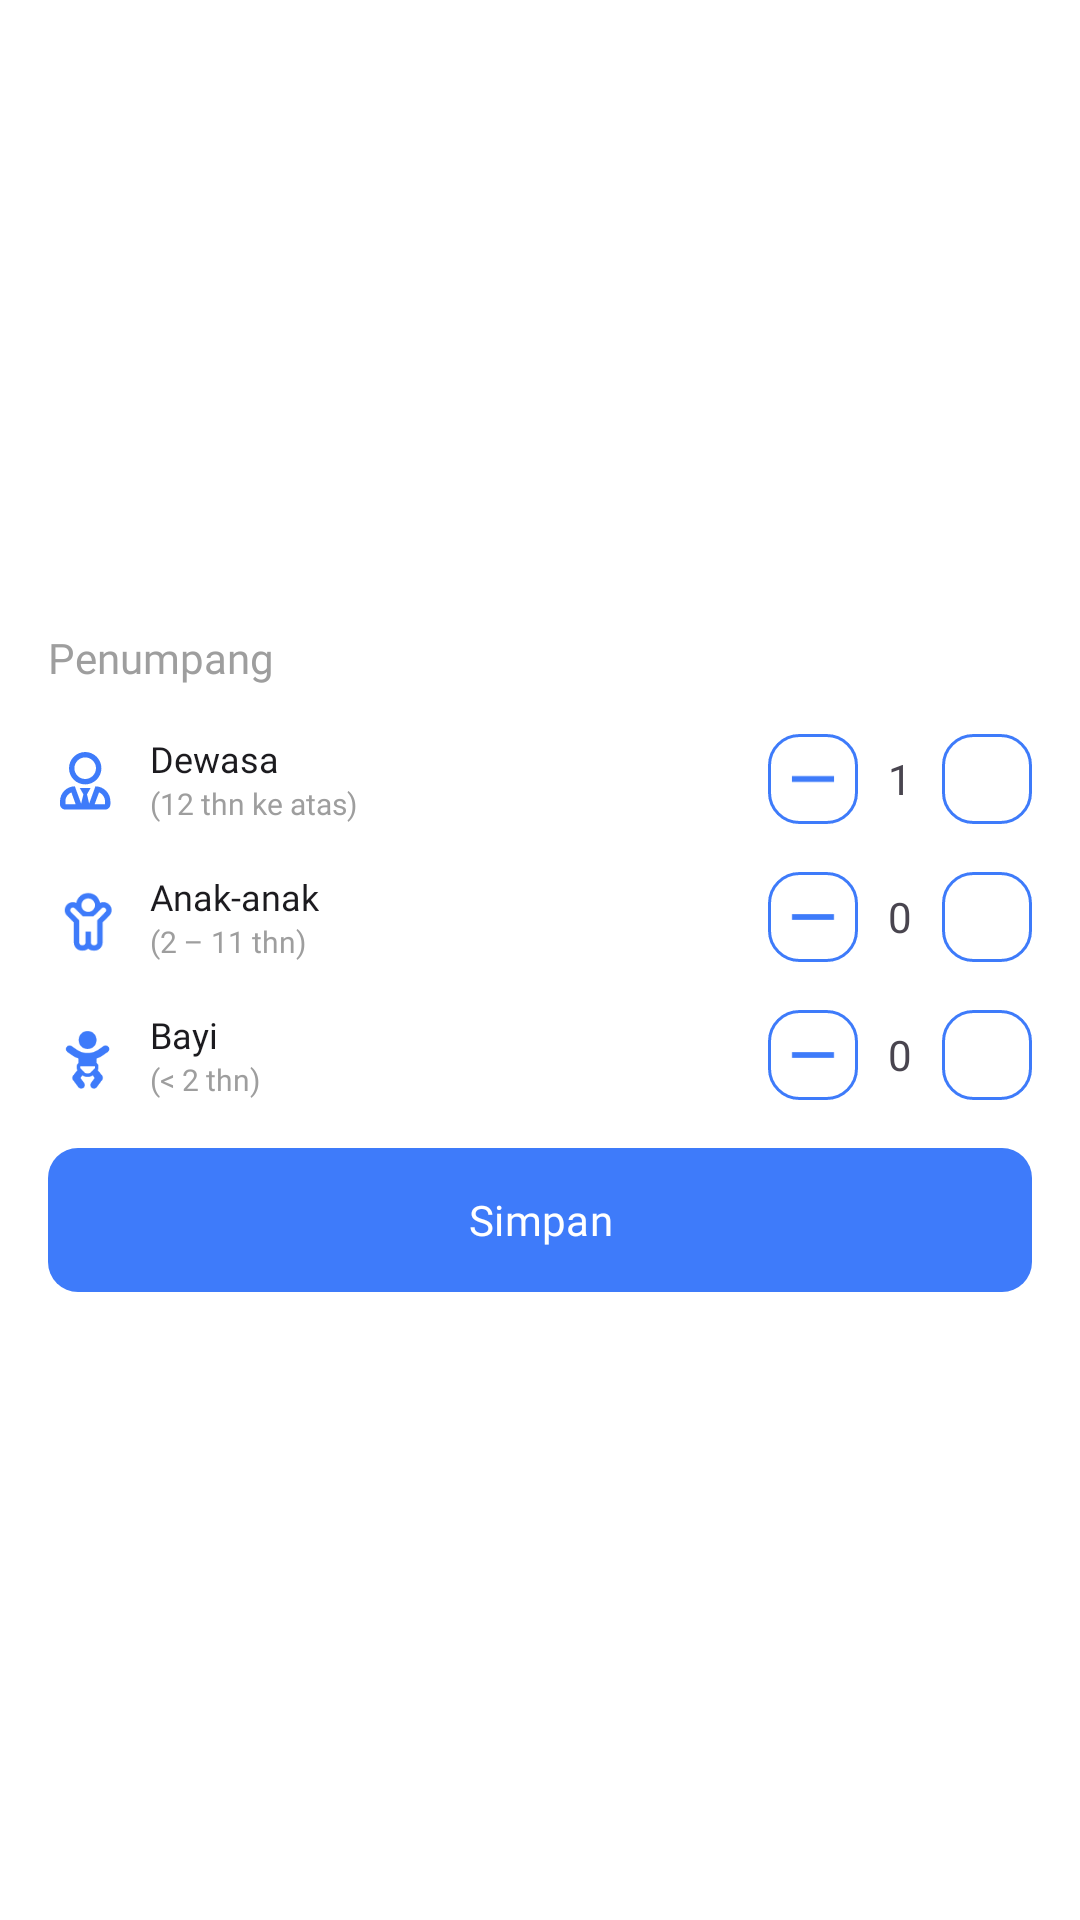

Screen size 1080×1920. Icon name, then its center in pixels as (x=x, y=y):
decrease: (x=813, y=779), (x=813, y=917), (x=813, y=1055)
user adult: (x=85, y=781)
user baby: (x=88, y=1060)
user child: (x=88, y=922)
